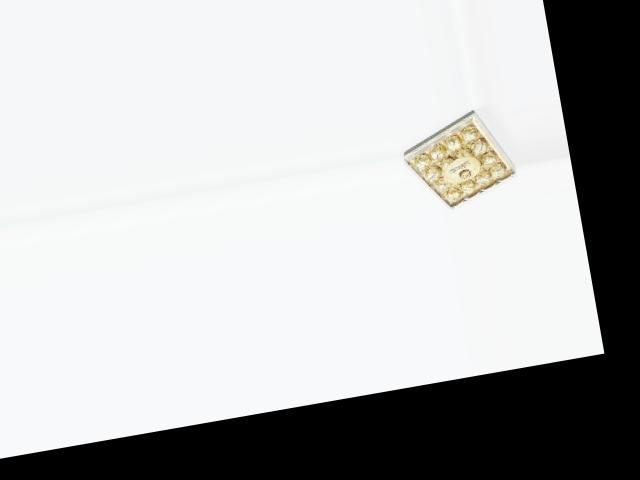chocolate: (395, 102, 522, 217)
